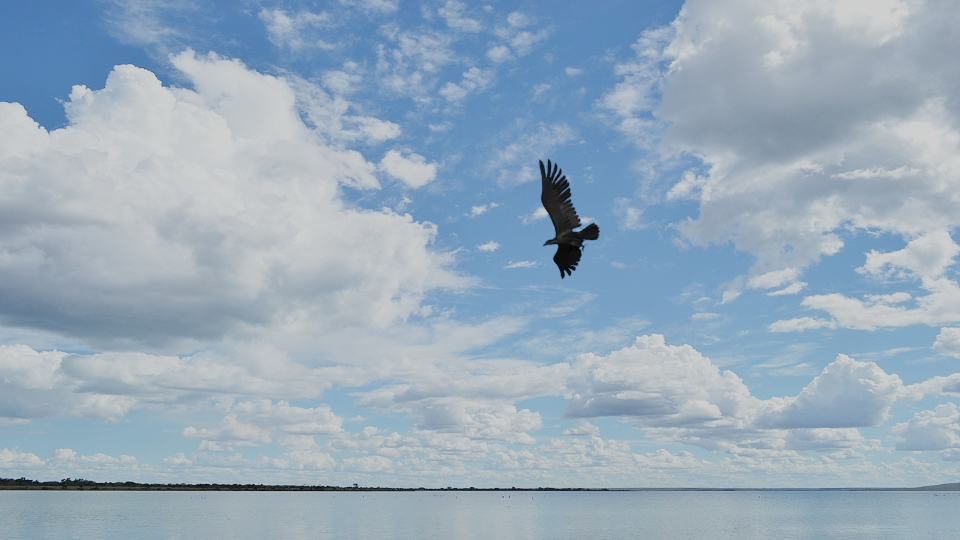bird: (535, 159, 599, 279)
